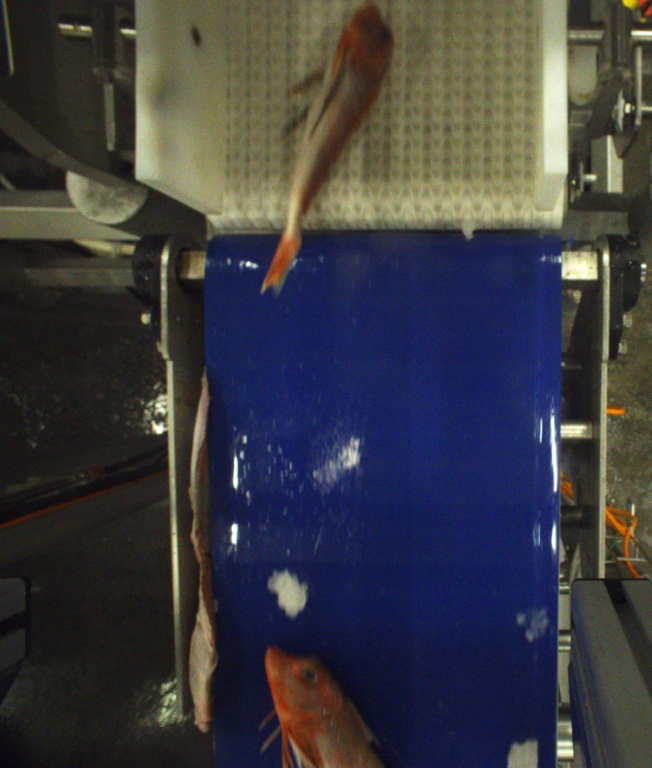GUU: (262, 645, 382, 768)
